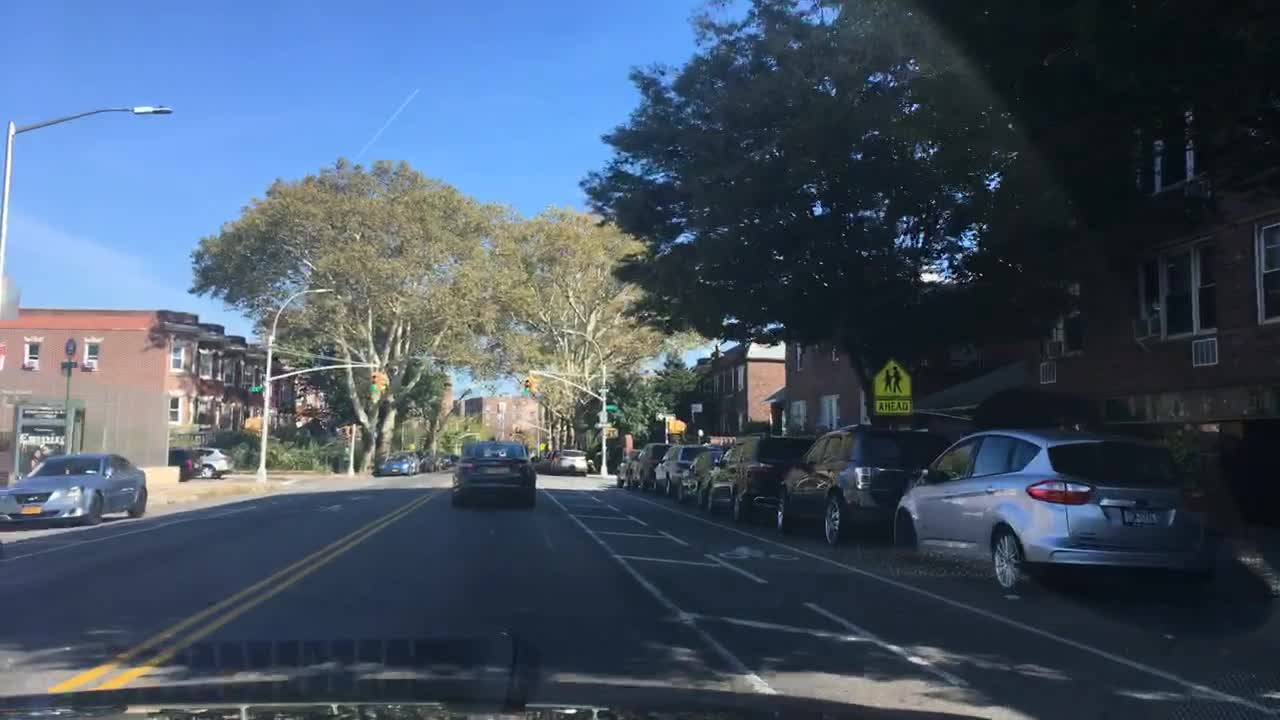car: (892, 425, 1201, 588), (777, 421, 943, 544), (0, 451, 148, 528), (708, 431, 813, 519), (451, 438, 538, 506), (652, 442, 725, 495), (701, 438, 743, 510), (677, 448, 725, 501), (166, 445, 233, 479), (627, 441, 670, 489), (694, 448, 724, 503), (551, 448, 588, 476), (377, 451, 418, 476), (615, 449, 640, 488), (531, 452, 552, 474), (408, 450, 423, 473), (417, 450, 430, 475), (424, 452, 437, 473), (432, 457, 448, 473), (442, 453, 459, 467)
traffic light: (243, 415, 261, 432), (665, 418, 684, 434), (338, 425, 357, 438), (377, 369, 388, 391), (528, 375, 540, 395), (522, 377, 533, 394), (368, 372, 377, 392), (603, 430, 619, 440)
traffic sign: (871, 359, 912, 413), (61, 360, 80, 372), (248, 384, 265, 395), (690, 402, 705, 413), (65, 338, 76, 353), (597, 421, 617, 429), (595, 382, 612, 391), (607, 403, 620, 411), (540, 441, 549, 452)
